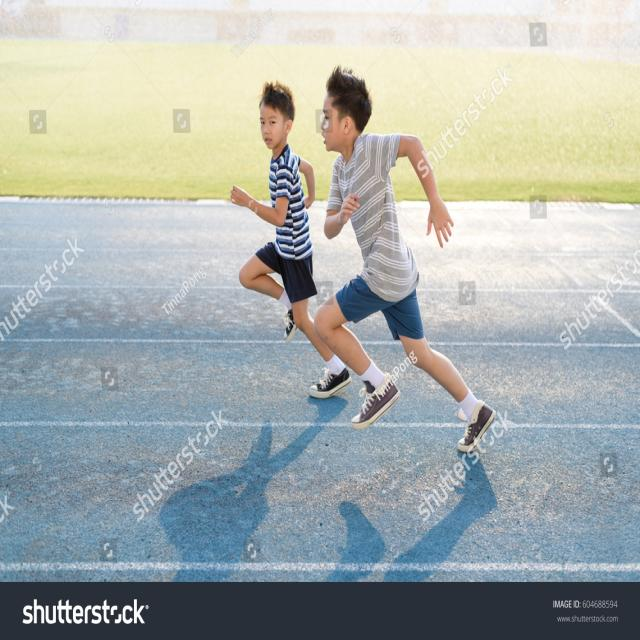running: (320, 66, 498, 456), (227, 80, 324, 402)
